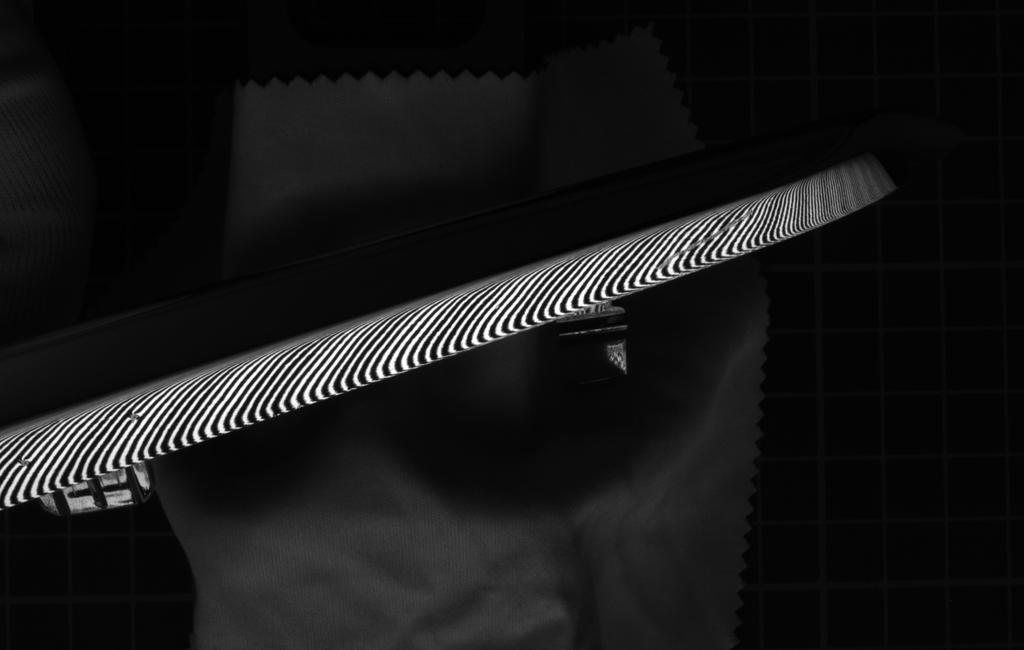Pierced: (122, 409, 148, 425), (16, 454, 39, 471)
Scratch: (658, 205, 762, 275)
